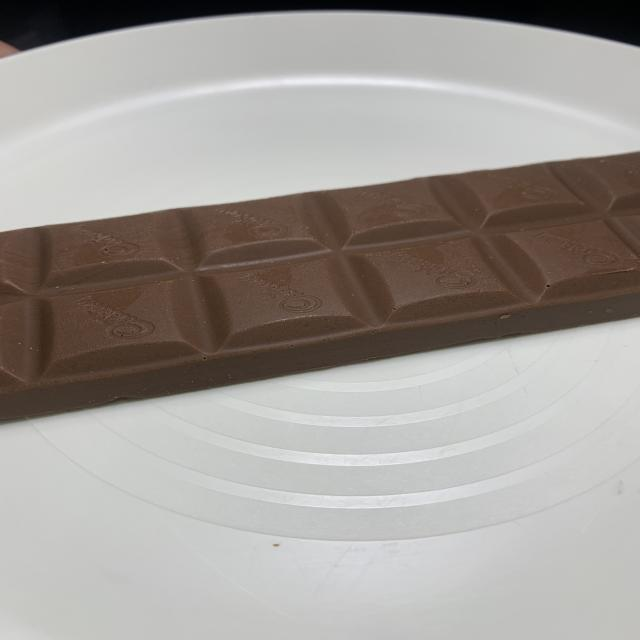Chocolate: (0, 146, 640, 432)
